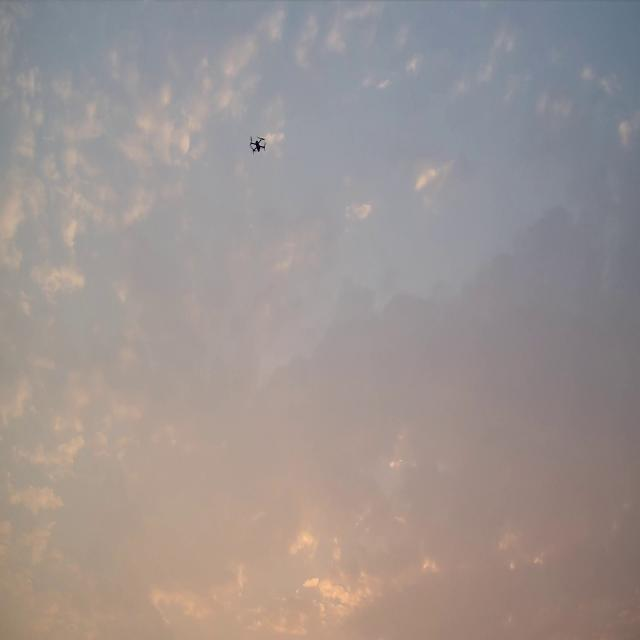UAV: (249, 136, 267, 154)
